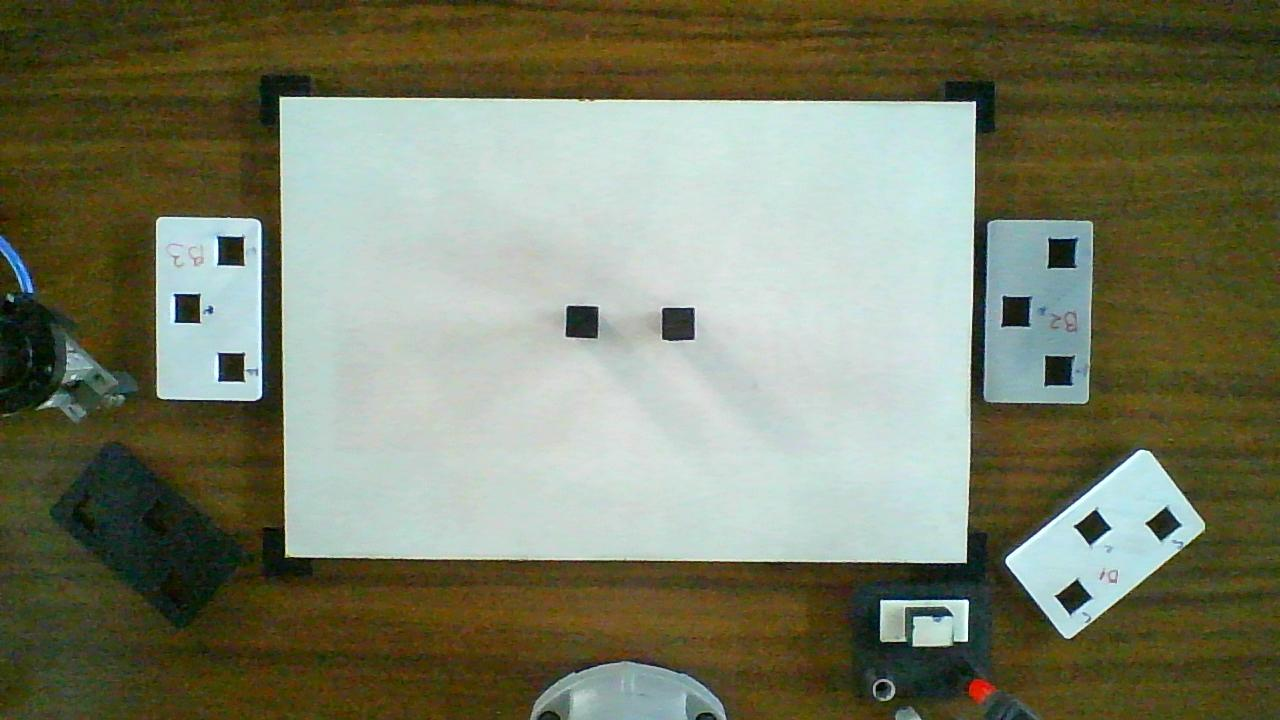peca_preta: (663, 308, 694, 340), (567, 306, 596, 337)
